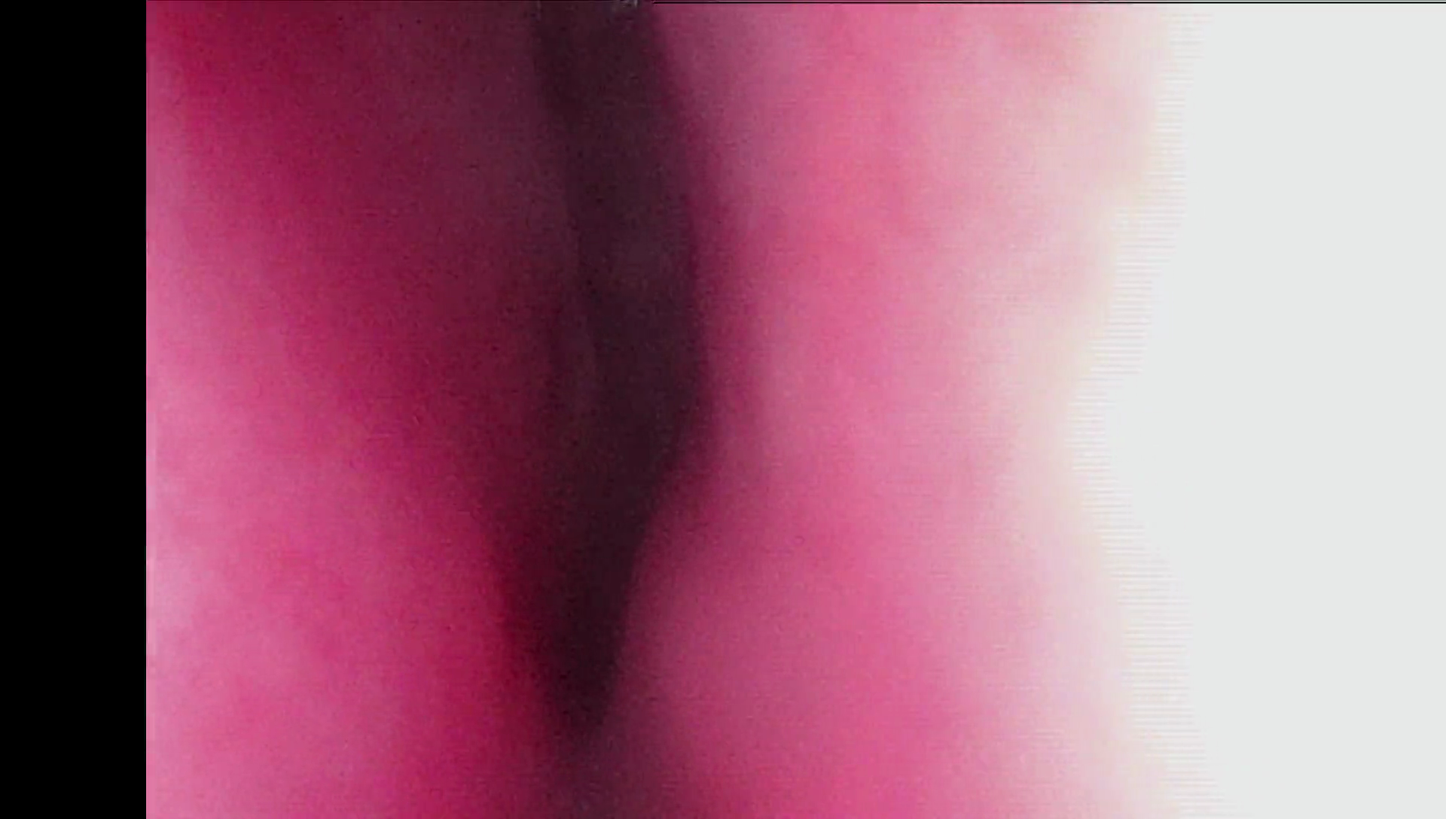close_wall: (809, 13, 1446, 819), (158, 233, 428, 819)
next: (484, 226, 740, 769)
